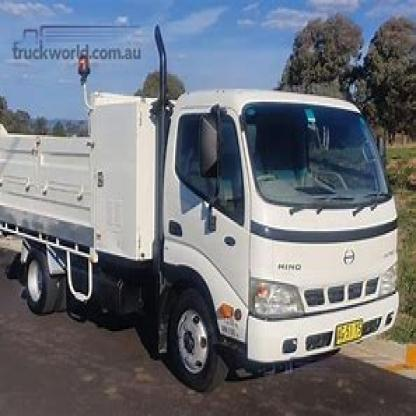dump_truck: (4, 61, 409, 396)
